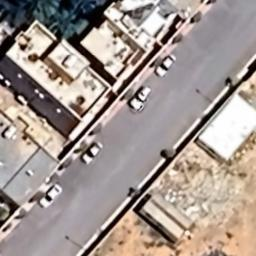sedan: (31, 182, 67, 212), (76, 138, 106, 169), (126, 84, 152, 116), (154, 50, 178, 80)
